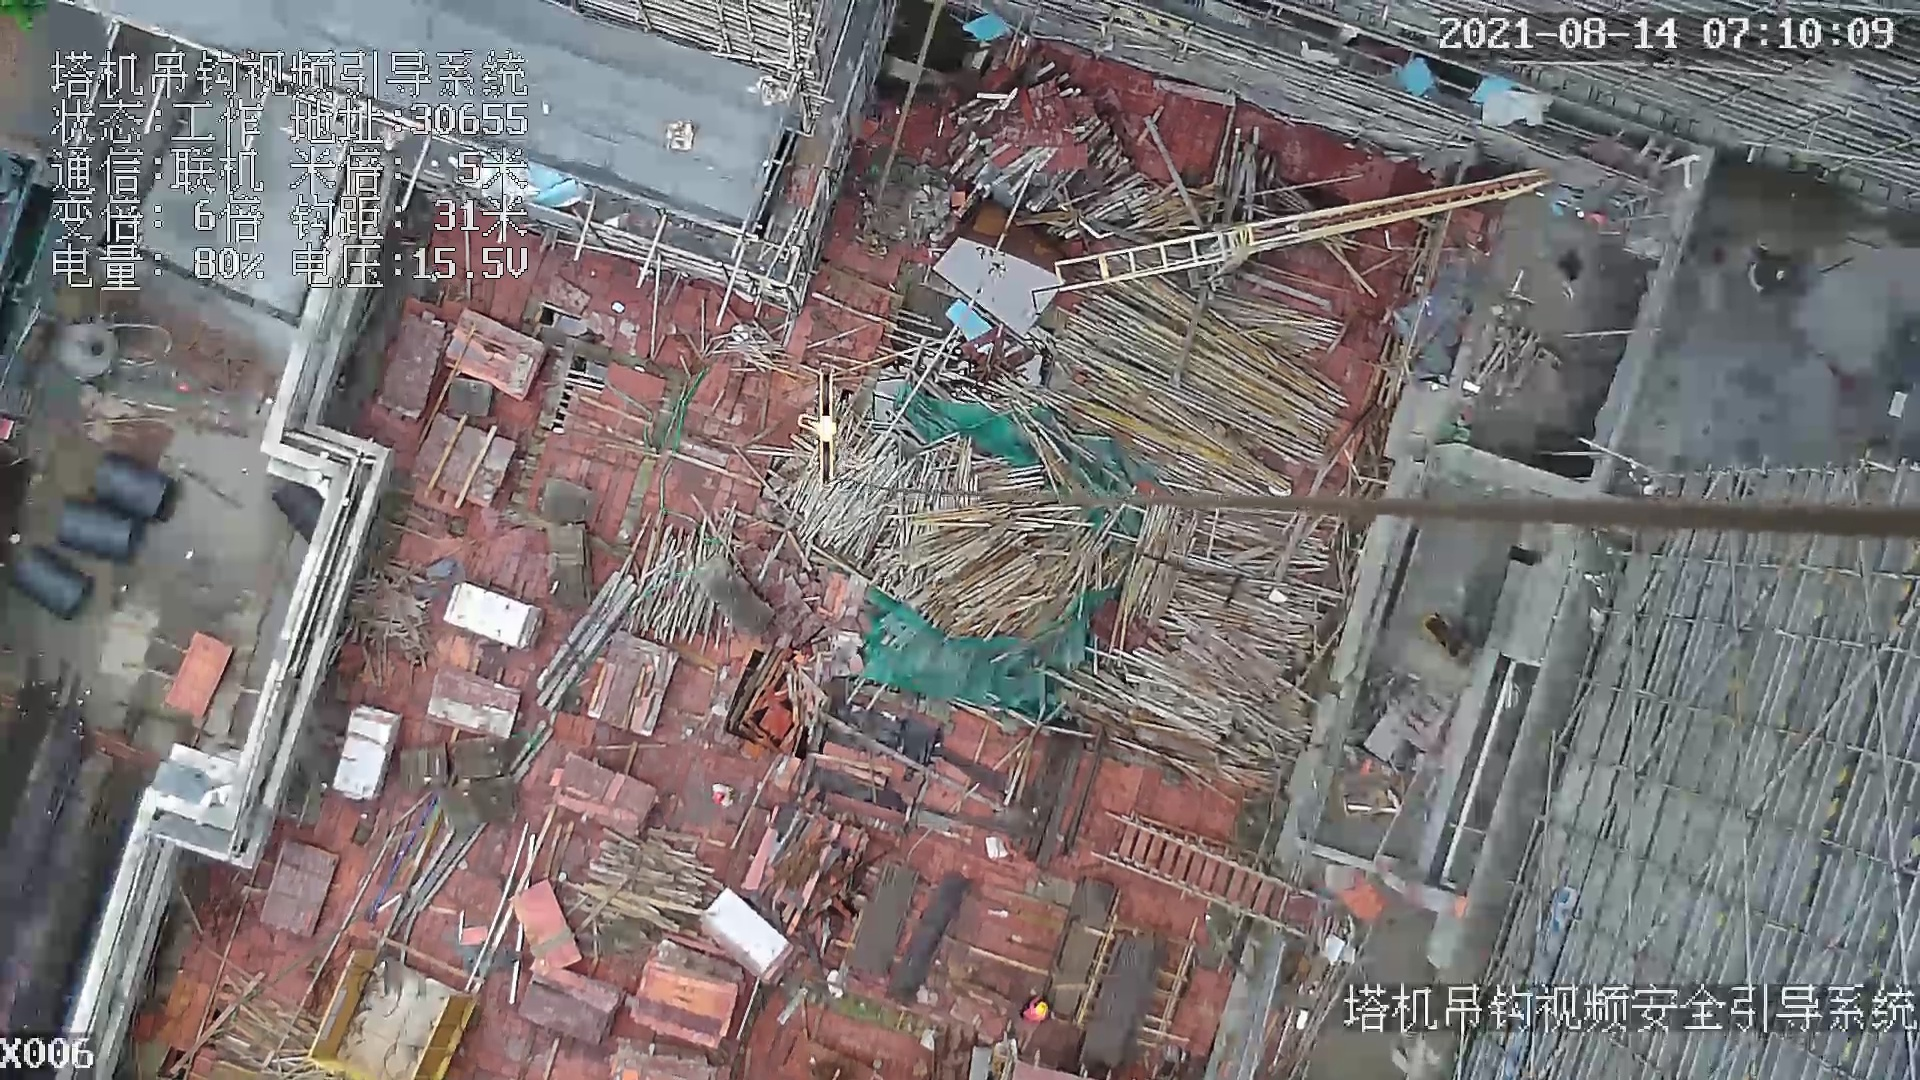helmet: (713, 792, 725, 806)
hook: (795, 353, 845, 486)
person: (710, 781, 735, 811)
